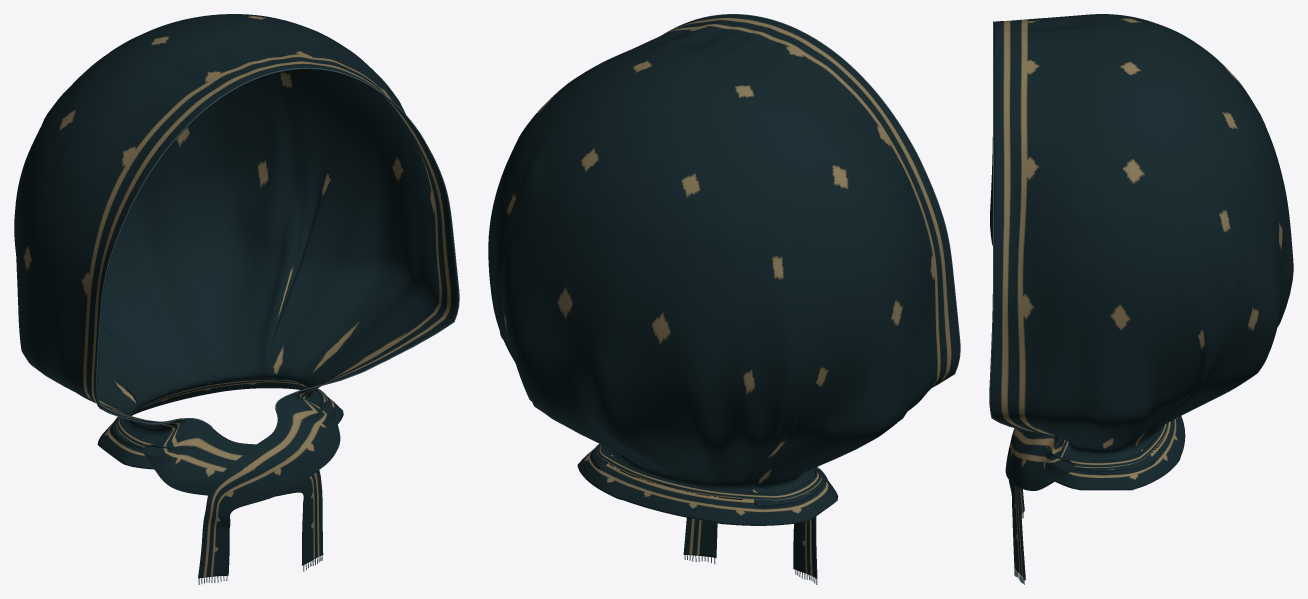
File: Masculine-tank-pashmina240-headgear.glb
3 renders of one model, left to right at view 1: azimuth 30°, elevation 25°; view 2: azimuth 150°, elevation 25°; view 3: azimuth 270°, elevation 25°, orthographic. The views are drawn at different scales.
Visible parts, largest first — view 1: 226 headgear / Headwear / continuous woven pashmina239, 226 headgear / Headwear / face edge239; view 2: 226 headgear / Headwear / continuous woven pashmina239, 226 headgear / Headwear / face edge239; view 3: 226 headgear / Headwear / continuous woven pashmina239, 226 headgear / Headwear / face edge239.
Boxes of the visible parts, bbox=[...] form: 226 headgear / Headwear / continuous woven pashmina239: bbox=[14, 14, 458, 578]; 226 headgear / Headwear / face edge239: bbox=[96, 67, 459, 427]; 226 headgear / Headwear / continuous woven pashmina239: bbox=[488, 14, 959, 578]; 226 headgear / Headwear / face edge239: bbox=[663, 14, 960, 387]; 226 headgear / Headwear / continuous woven pashmina239: bbox=[990, 14, 1293, 579]; 226 headgear / Headwear / face edge239: bbox=[989, 21, 1038, 432].
Bounding box in the file's own units: 1.03 × 1.35 × 0.7127.
3 materials, 1 textured.
